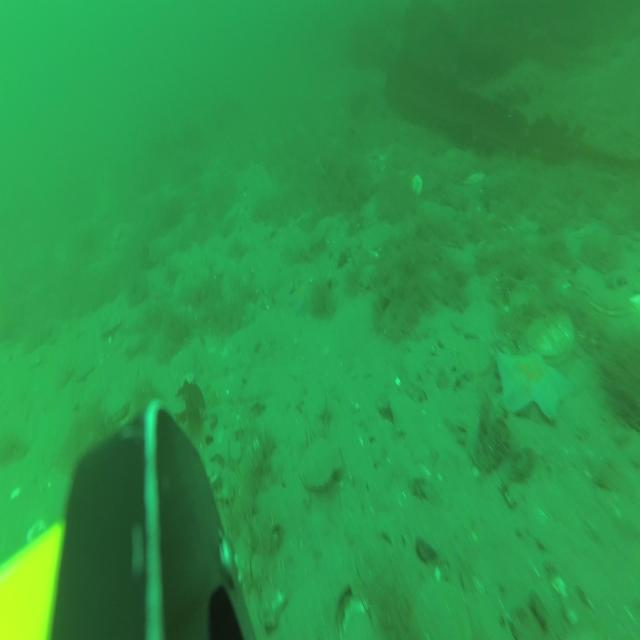scallop: (524, 312, 576, 359), (300, 440, 343, 490), (584, 274, 628, 313), (358, 263, 380, 289), (409, 170, 423, 197), (462, 170, 486, 185)
starfish: (494, 345, 570, 419), (294, 288, 318, 318)
